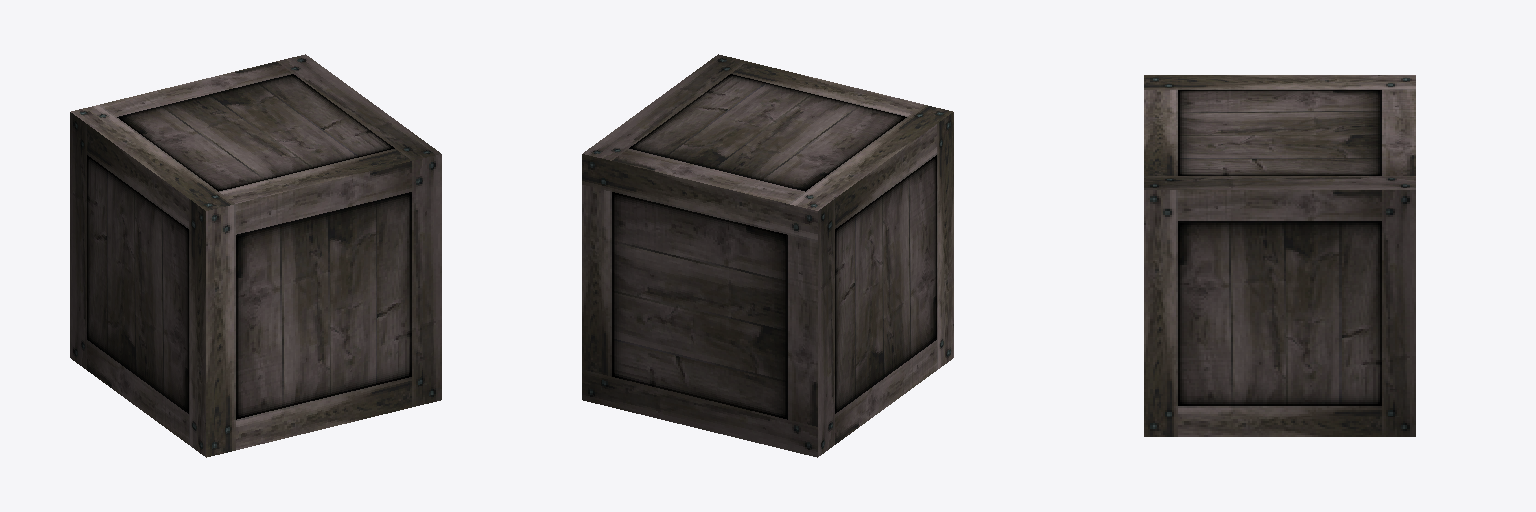
The picture shows the model from 3 angles: view 1: azimuth 30°, elevation 25°; view 2: azimuth 150°, elevation 25°; view 3: azimuth 270°, elevation 25°; orthographic projection.
Parts seen in each view (by area): view 1: Cube; view 2: Cube; view 3: Cube.
Boxes of the visible parts, x1,y1,x2,y2 form: Cube: [70, 54, 441, 457]; Cube: [582, 54, 953, 457]; Cube: [1144, 75, 1415, 436].
Size of the model in its own units: 1 by 1 by 1.
1 materials, 1 textured.